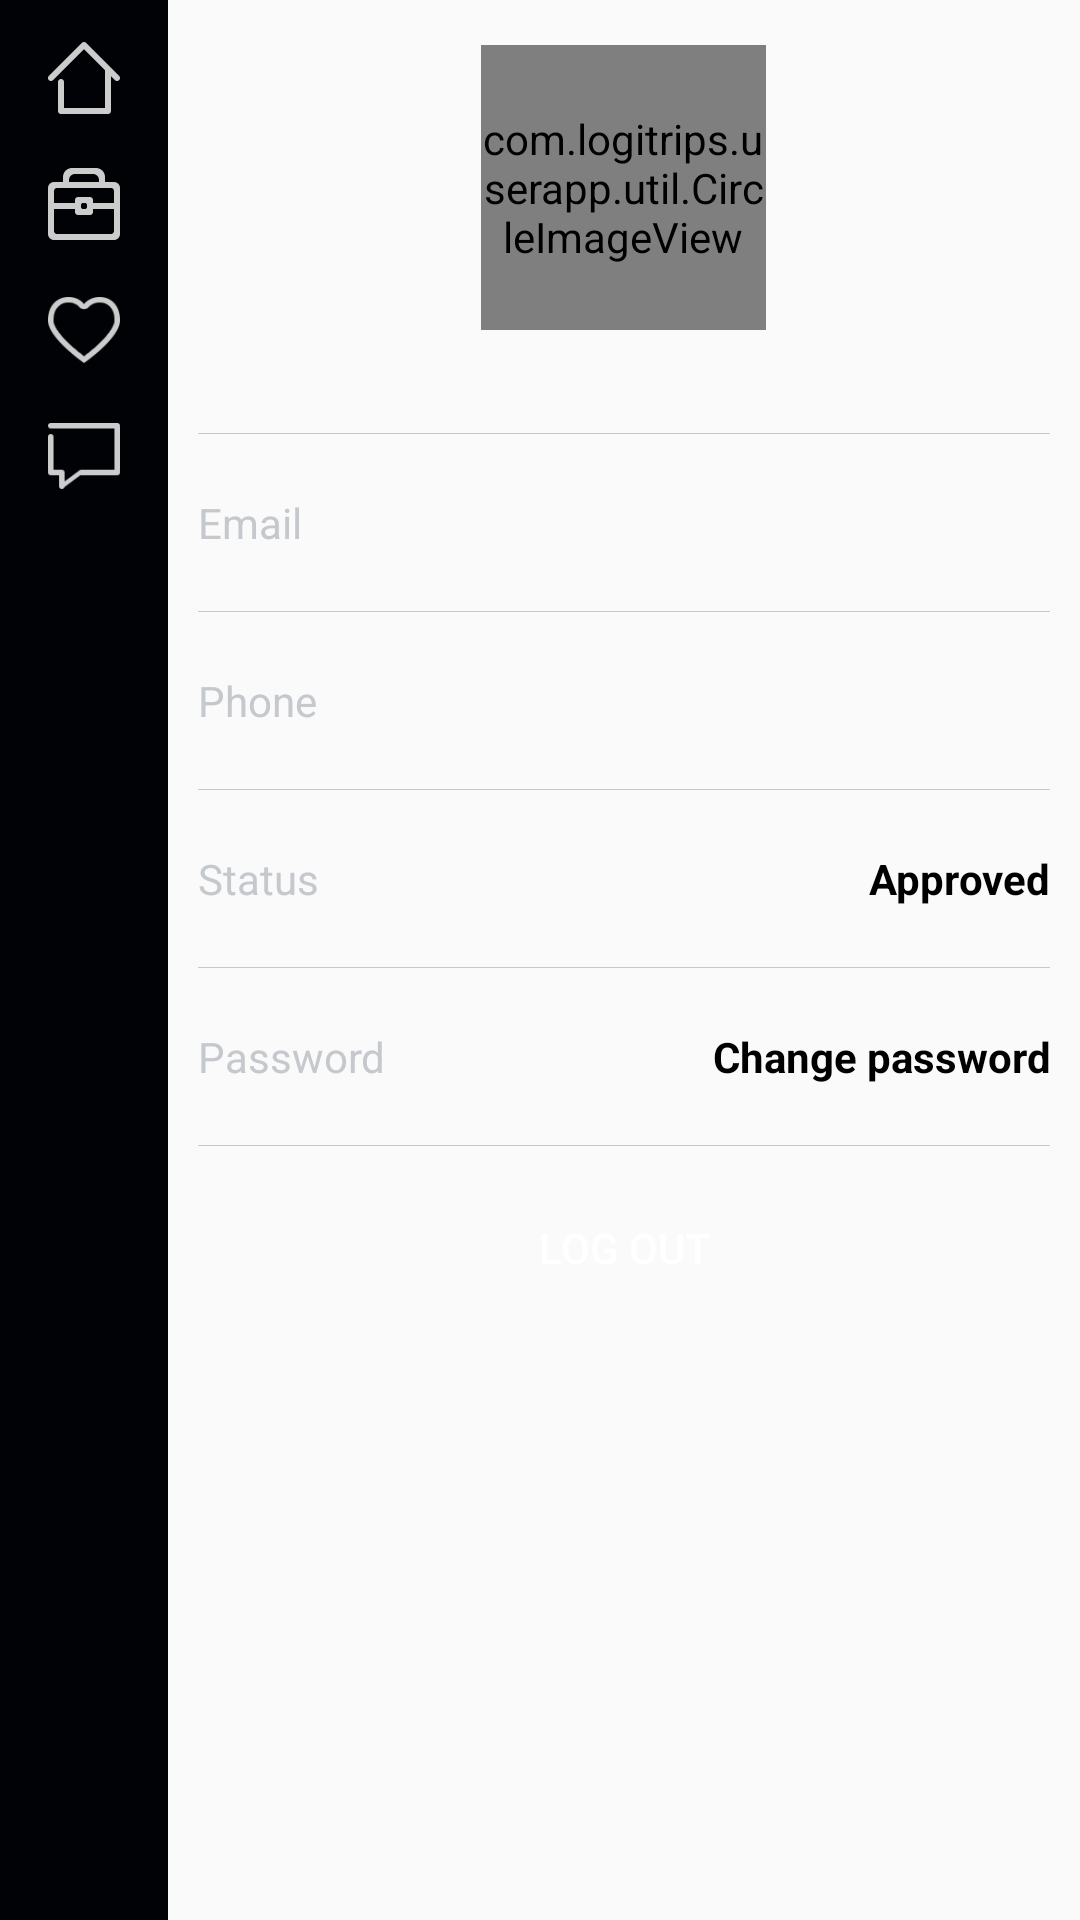

Screen size 1080x1920. Icon name, then its box in pixels as (x1, y1, x2, y2):
fav: (48, 297, 120, 363)
home: (48, 42, 120, 114)
message: (48, 423, 120, 489)
trip: (48, 168, 120, 240)
